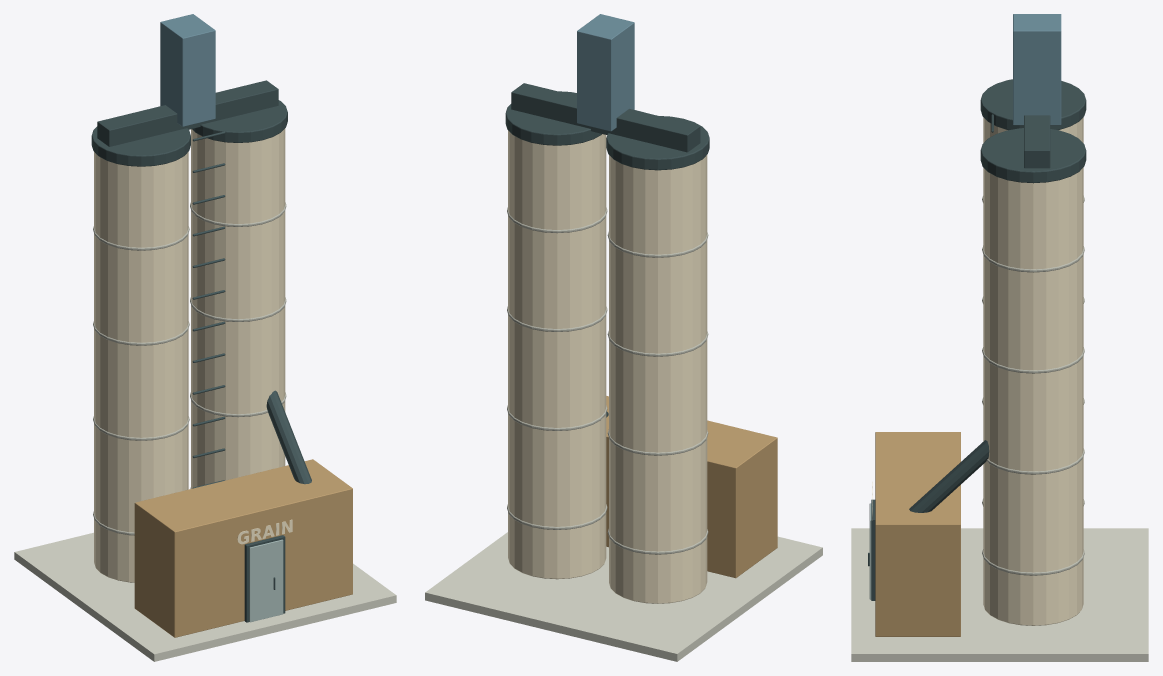
The model's file is large-2x2-grain-silo-01.glb.
3 views of the same model, side by side, from view 1: azimuth 30°, elevation 25°; view 2: azimuth 150°, elevation 25°; view 3: azimuth 270°, elevation 25° (orthographic). The views are drawn at different scales.
Parts seen in each view (by area): view 1: GrainSilo, GrainSilo.001, BaggingHouse, LotPlinth, ElevatorHead, TopConveyor, EntranceGlass, SiloRoof, SiloRoof.001, FeedConveyor, EntranceFrame; view 2: GrainSilo, GrainSilo.001, LotPlinth, BaggingHouse, ElevatorHead, TopConveyor, SiloRoof, SiloRoof.001; view 3: GrainSilo.001, LotPlinth, BaggingHouse, ElevatorHead, SiloRoof.001, SiloRoof, FeedConveyor, TopConveyor, GrainSilo, EntranceFrame.
Part boxes in pixels (left/top/right/bottom): GrainSilo: left=94, top=152, right=188, bottom=582; GrainSilo.001: left=191, top=128, right=285, bottom=488; BaggingHouse: left=134, top=459, right=352, bottom=637; LotPlinth: left=14, top=532, right=396, bottom=661; ElevatorHead: left=160, top=14, right=215, bottom=126; TopConveyor: left=97, top=80, right=278, bottom=146; EntranceGlass: left=249, top=539, right=283, bottom=622; SiloRoof: left=91, top=126, right=190, bottom=166; SiloRoof.001: left=192, top=100, right=287, bottom=142; FeedConveyor: left=266, top=390, right=311, bottom=484; EntranceFrame: left=244, top=535, right=285, bottom=622; GrainSilo: left=609, top=155, right=707, bottom=603; GrainSilo.001: left=508, top=130, right=606, bottom=579; LotPlinth: left=425, top=532, right=822, bottom=661; BaggingHouse: left=606, top=396, right=777, bottom=578; ElevatorHead: left=577, top=14, right=634, bottom=131; TopConveyor: left=511, top=83, right=700, bottom=152; SiloRoof: left=606, top=116, right=709, bottom=170; SiloRoof.001: left=505, top=91, right=601, bottom=145; GrainSilo.001: left=983, top=167, right=1083, bottom=625; LotPlinth: left=851, top=528, right=1148, bottom=661; BaggingHouse: left=875, top=432, right=960, bottom=636; ElevatorHead: left=1013, top=14, right=1061, bottom=125; SiloRoof.001: left=980, top=128, right=1086, bottom=183; SiloRoof: left=980, top=79, right=1086, bottom=130; FeedConveyor: left=909, top=440, right=989, bottom=512; TopConveyor: left=1024, top=115, right=1050, bottom=168; GrainSilo: left=983, top=117, right=1083, bottom=142; EntranceFrame: left=871, top=499, right=875, bottom=600.
Bounding box in the file's own units: 8 × 17.12 × 8.
